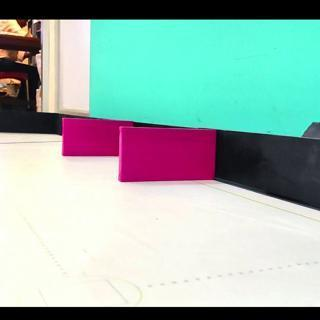xparking: (120, 130, 216, 182), (64, 120, 118, 158)
